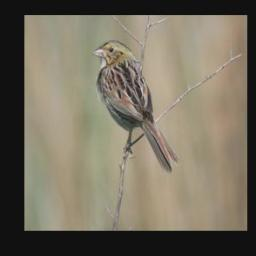Sparrow: (91, 38, 182, 176)
